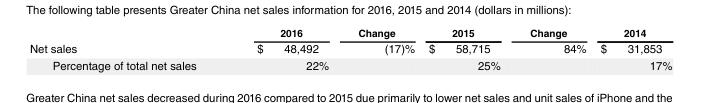table: (28, 29, 671, 71)
table column: (28, 29, 225, 71), (225, 29, 342, 71), (420, 29, 514, 71), (592, 29, 671, 71), (342, 29, 420, 71), (514, 29, 592, 71)
table column header: (28, 29, 671, 41)
table row: (28, 41, 671, 58), (28, 58, 671, 71), (28, 29, 671, 41)
